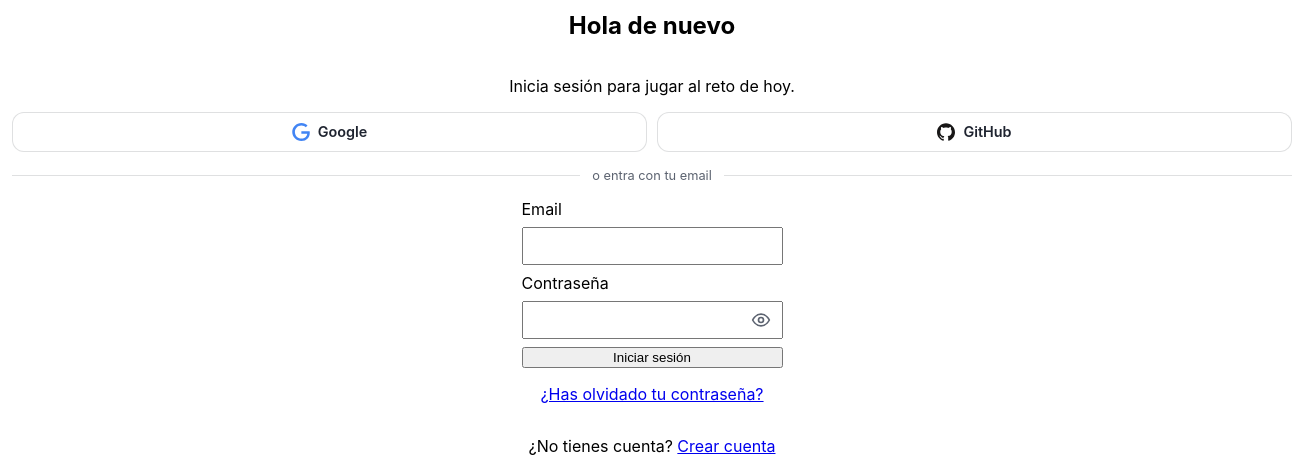
Test: LogInForm › disables the button while logging in
The image size is (1304, 472).
Type "ana@example.com" into the field labelled "Email" at (652, 246), box x1=522 y1=227 x2=782 y2=265
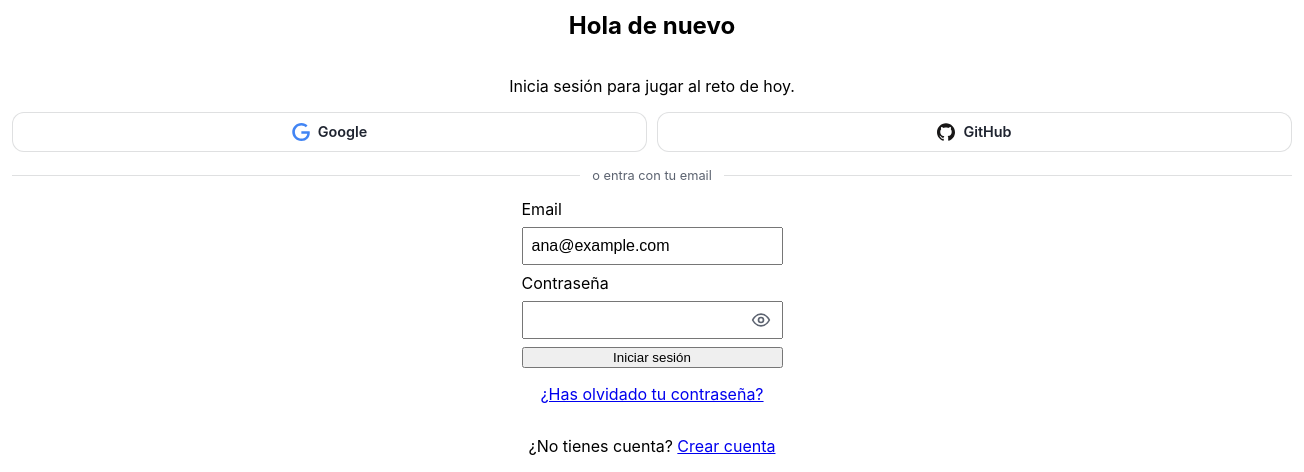
Type "secret123" into the password field labelled "Contraseña" at (652, 320), box x1=522 y1=301 x2=782 y2=339
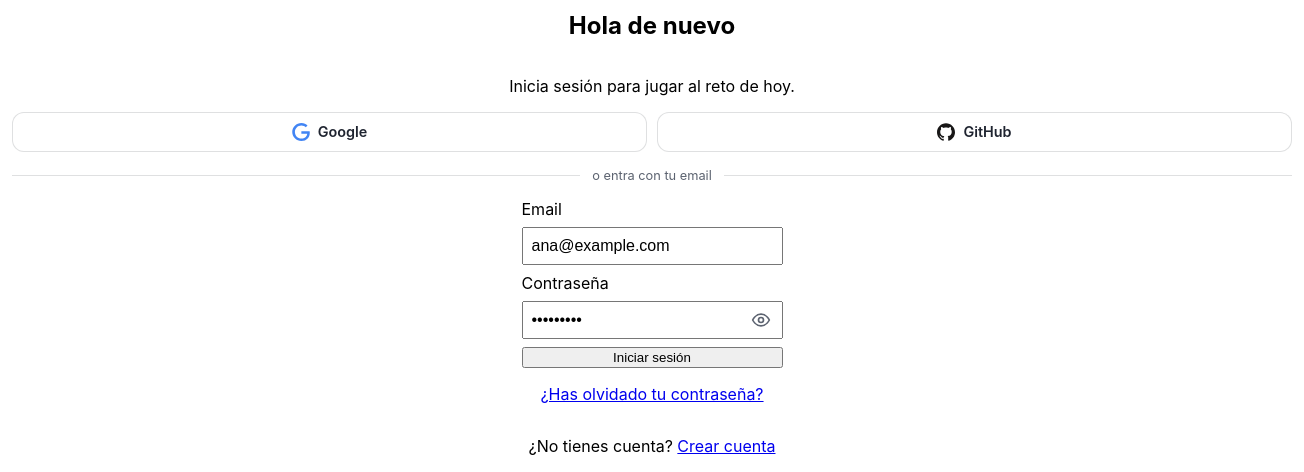
Click the button "Iniciar sesión" at (652, 357), box x1=522 y1=347 x2=782 y2=368
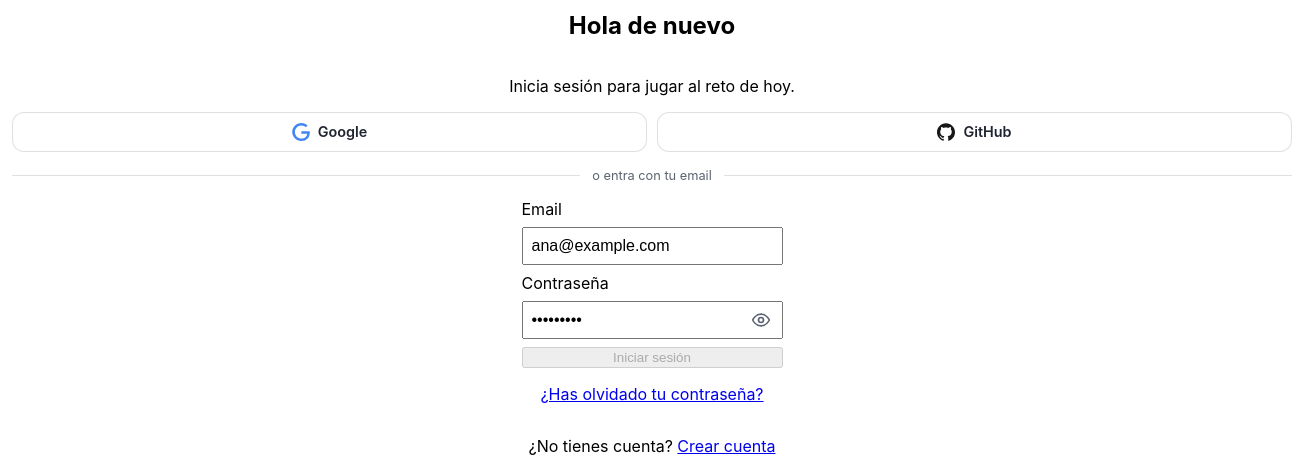
Expected: the button "Iniciar sesión" is disabled, x1=522 y1=347 x2=782 y2=368
